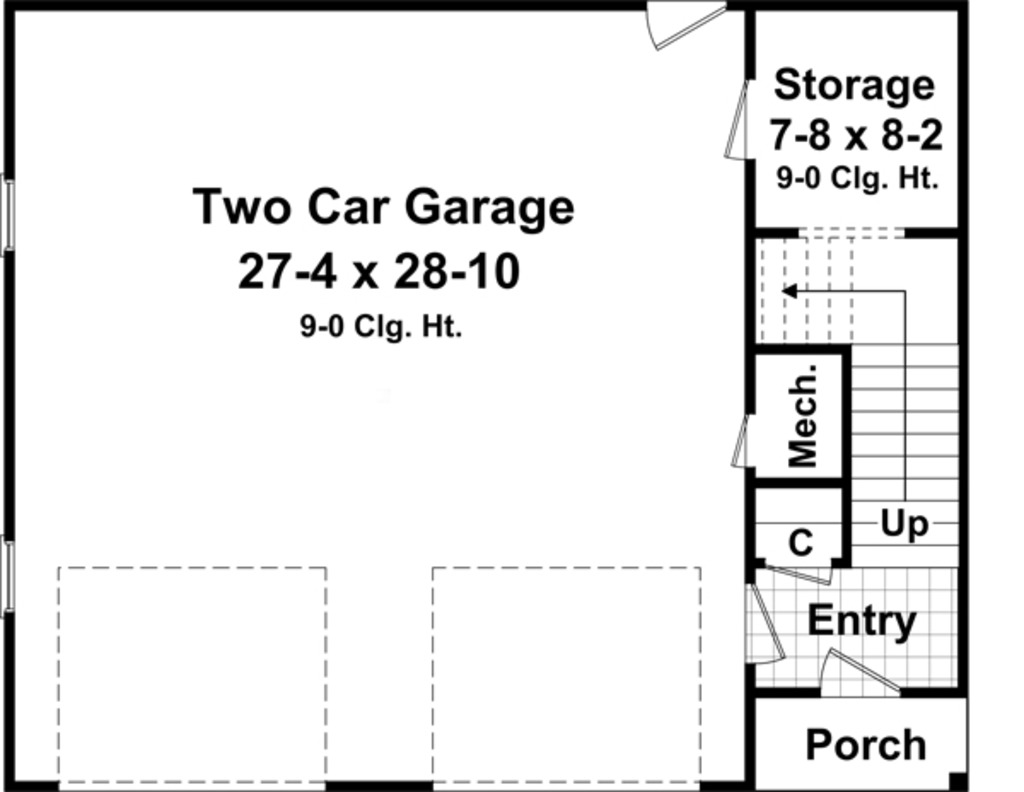door: (817, 643, 901, 697), (641, 1, 729, 50), (744, 585, 795, 663), (723, 75, 757, 167)
stairs: (753, 236, 960, 570)
window: (1, 537, 23, 620), (1, 173, 19, 250)
